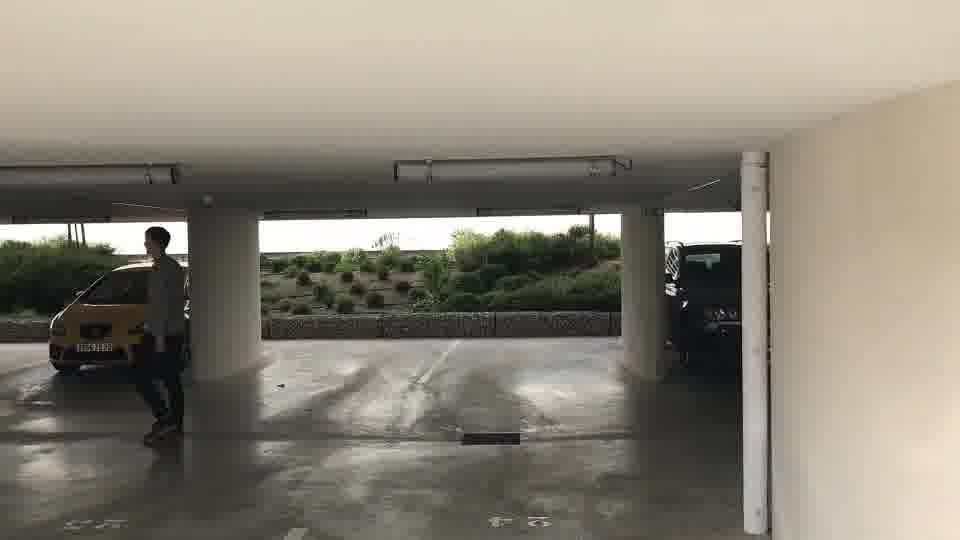jugador: (109, 216, 212, 446)
